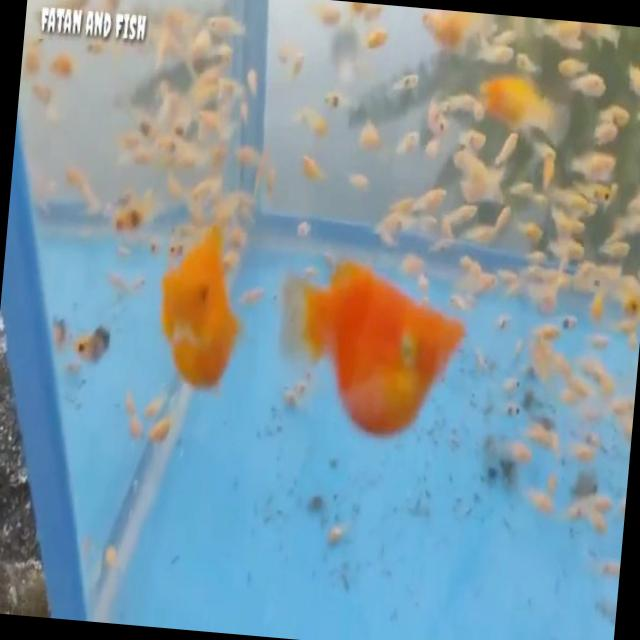PlatyFish: (267, 239, 486, 450)
